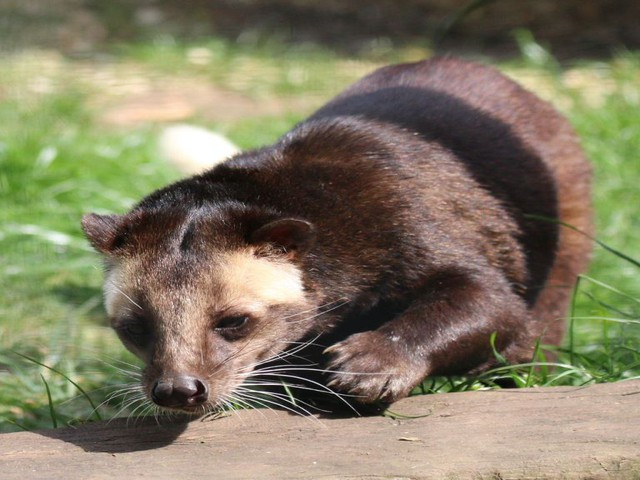civet: (81, 55, 597, 423)
